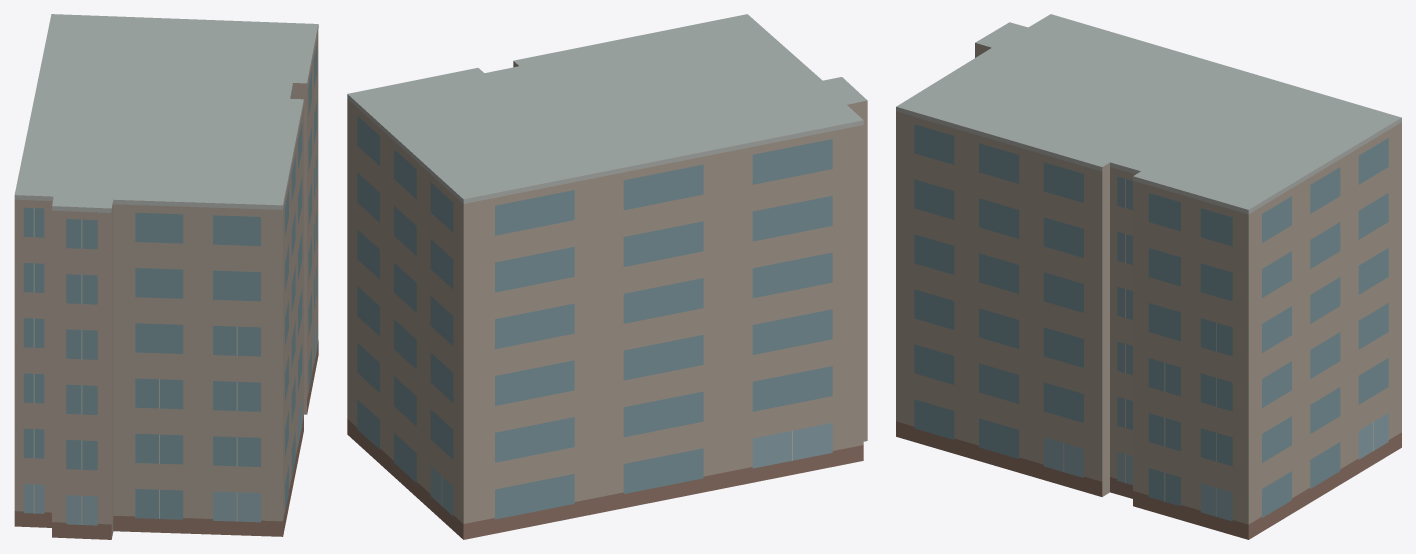
The model's file is survey-upis-32936825.glb.
3 renders of one model, left to right at view 1: azimuth 30°, elevation 25°; view 2: azimuth 150°, elevation 25°; view 3: azimuth 270°, elevation 25°, orthographic. The views are drawn at different scales.
Parts seen in each view (by area): view 1: survey-upis-32936825.tmp; view 2: survey-upis-32936825.tmp; view 3: survey-upis-32936825.tmp.
Part boxes in pixels (x1,y1,x2,y2): survey-upis-32936825.tmp: (14, 14, 318, 539); survey-upis-32936825.tmp: (347, 14, 867, 539); survey-upis-32936825.tmp: (896, 14, 1401, 539).
Size of the model in its own units: 22.67 by 17.8 by 24.73.
